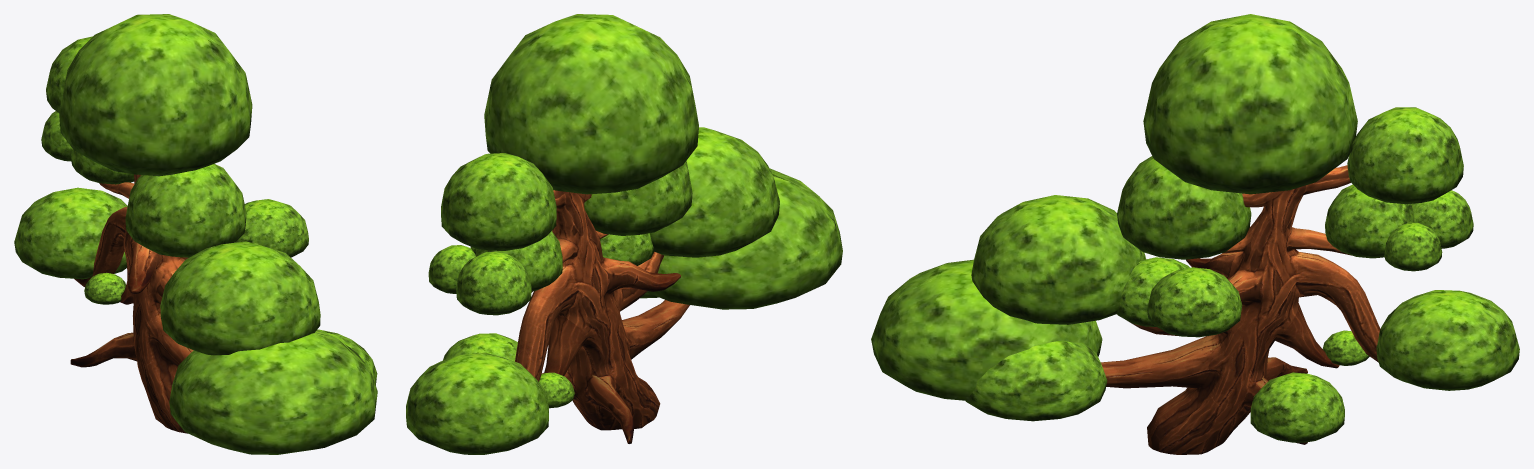
The model's file is arbre_V2.fbx.
The picture shows the model from 3 angles, left to right: view 1: azimuth 30°, elevation 25°; view 2: azimuth 150°, elevation 25°; view 3: azimuth 270°, elevation 25°; orthographic projection. The views are drawn at different scales.
Parts seen in each view (by area): view 1: Arbre.008; view 2: Arbre.008; view 3: Arbre.008.
Boxes of the visible parts, bbox=[...] form: Arbre.008: bbox=[14, 14, 377, 454]; Arbre.008: bbox=[406, 14, 842, 454]; Arbre.008: bbox=[871, 14, 1519, 454].
Bounding box in the file's own units: 281 × 472 × 666.
